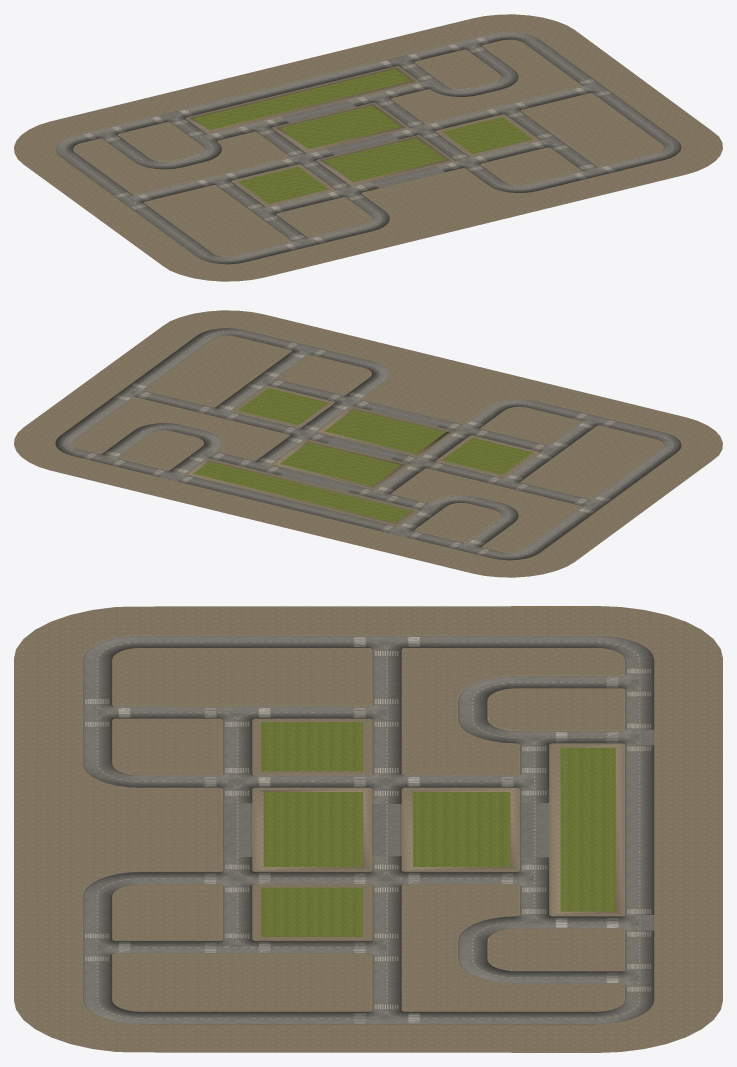
File: Puppy_Simulation_Road Slope.FBX
3 renders of one model, top to bottom at view 1: azimuth 30°, elevation 25°; view 2: azimuth 150°, elevation 25°; view 3: azimuth 270°, elevation 25°, orthographic. The views are drawn at different scales.
Visible parts, largest first — view 1: Object002, Line019, Line025; view 2: Object002, Line019, Line025; view 3: Object002, Line019, Line025.
Boxes of the visible parts, x1,y1,x2,y2 form: Object002: (14, 14, 722, 281); Line019: (79, 42, 657, 253); Line025: (55, 31, 681, 264); Object002: (14, 310, 722, 577); Line019: (79, 338, 657, 549); Line025: (55, 327, 681, 560); Object002: (14, 606, 722, 1052); Line019: (123, 652, 615, 1006); Line025: (82, 635, 654, 1024).
Size of the model in its own units: 12225 by 8.29 by 8198.
Materials: 4 (4 with a texture image).
